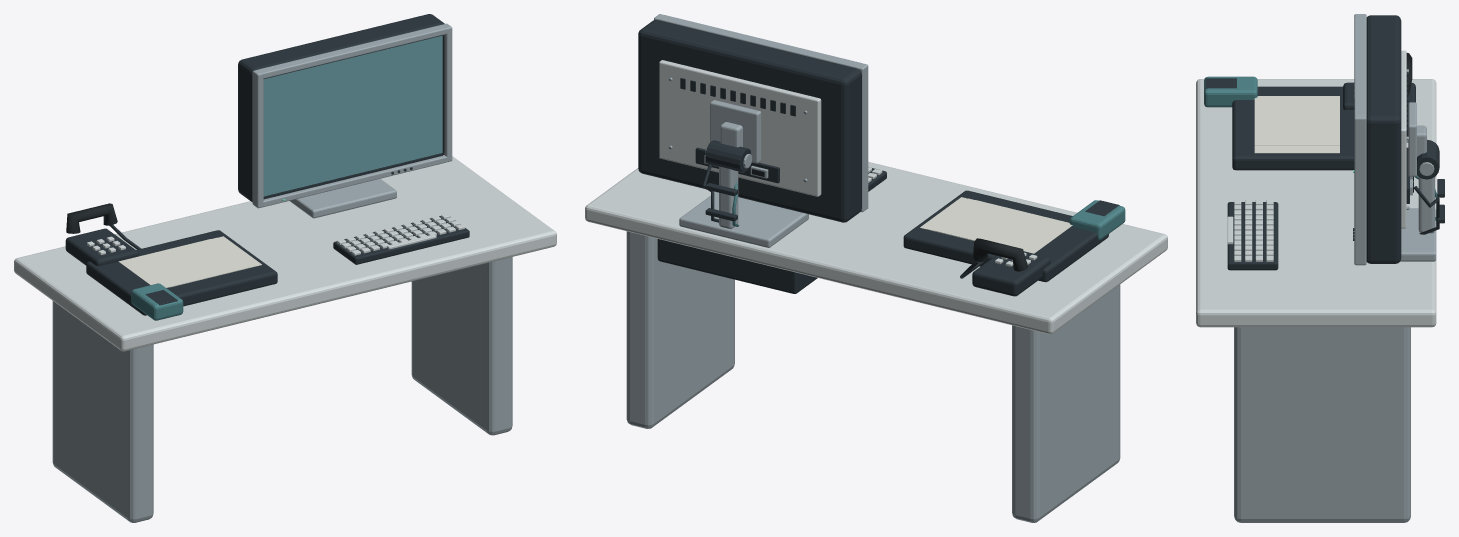
The model's file is SC_IncidentReview.fbx.
The picture shows the model from 3 angles, left to right: view 1: azimuth 30°, elevation 25°; view 2: azimuth 150°, elevation 25°; view 3: azimuth 270°, elevation 25°; orthographic projection. The views are drawn at different scales.
Parts seen in each view (by area): view 1: SC_IncidentReview; view 2: SC_IncidentReview; view 3: SC_IncidentReview.
Part boxes in pixels (box(x1,y1,x2,y2)): SC_IncidentReview: box(14, 14, 556, 522); SC_IncidentReview: box(585, 14, 1167, 522); SC_IncidentReview: box(1196, 14, 1444, 522).
Size of the model in its own units: 175 by 141 by 78.7.
